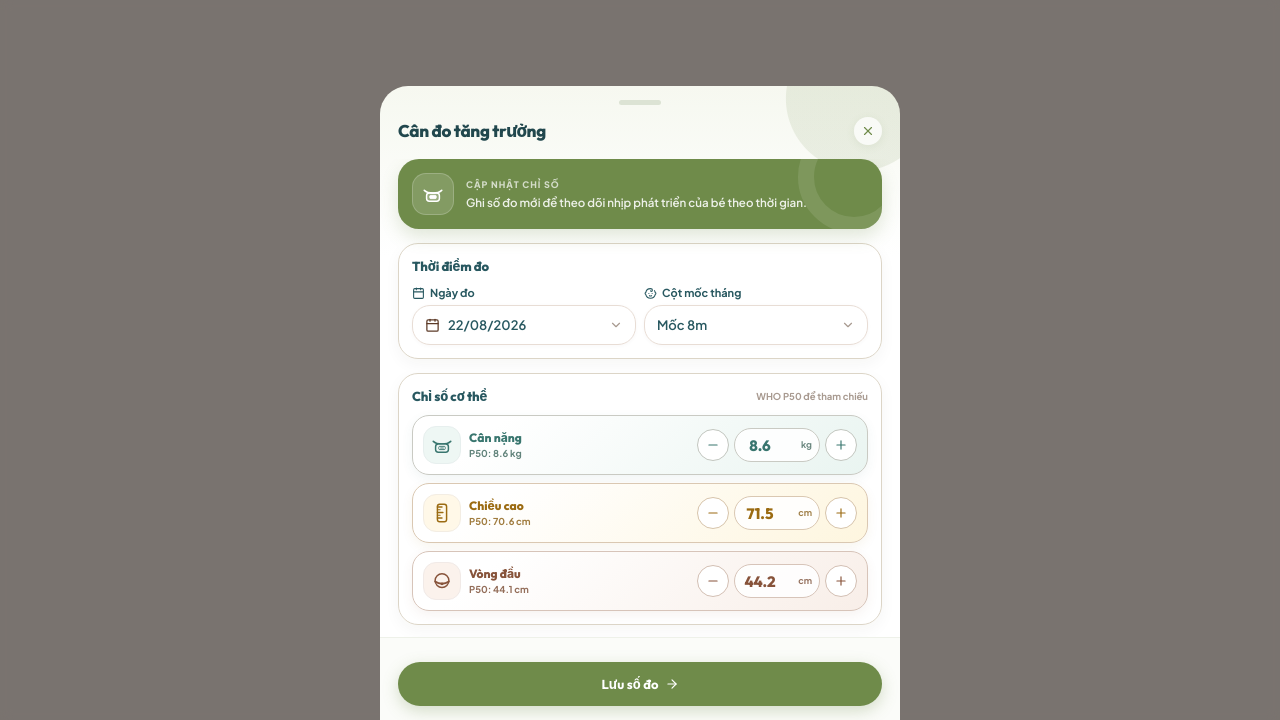
Test: AddGrowthModal › renders the themed metric cards and updates a measurement
Click the button named "Tăng cân nặng" at (841, 445), box [825,429,857,461]
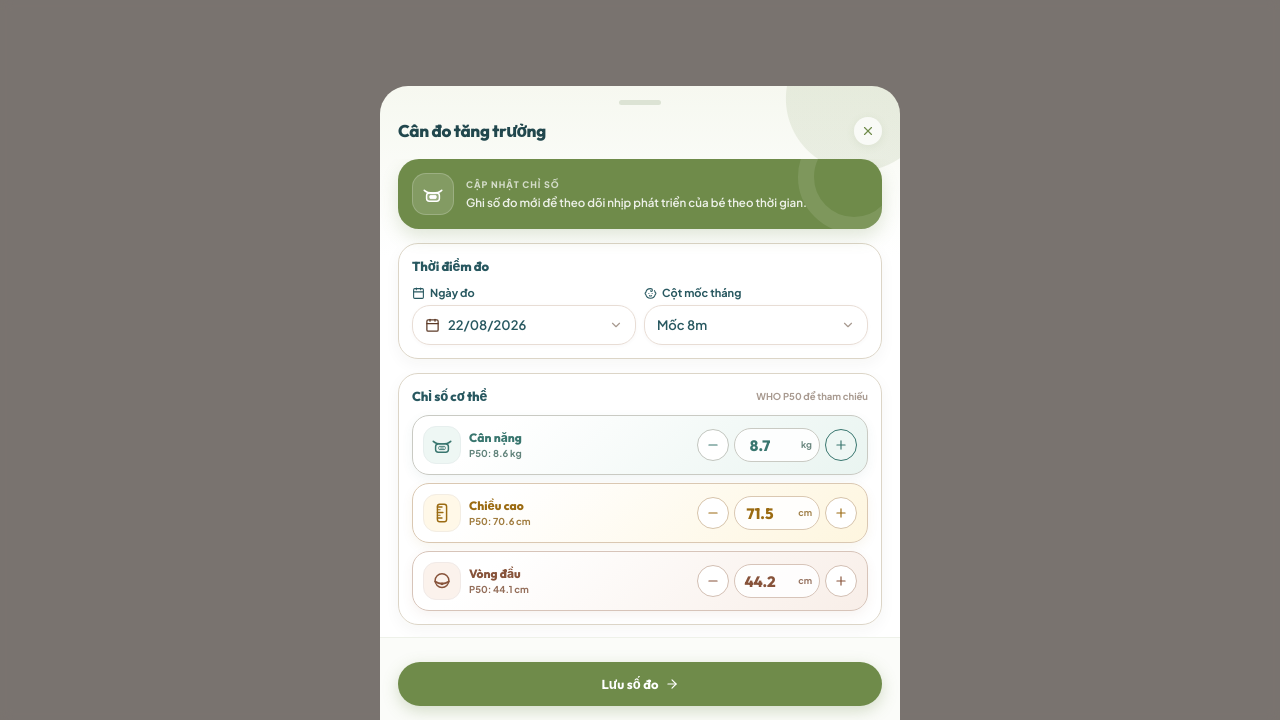
Expected: the number field named "Cân nặng (kg)" holds "8.7", [734,428,820,462]
